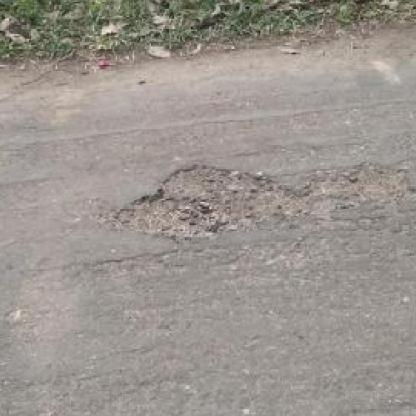pothole: (102, 156, 416, 240)
